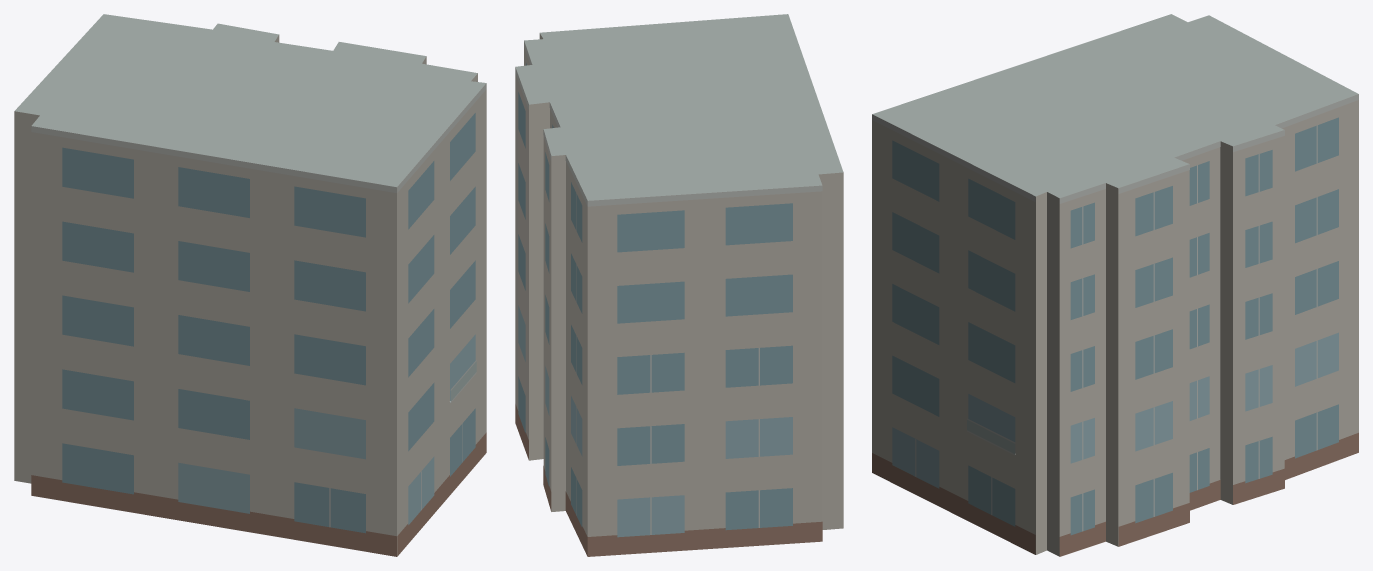
File: survey-upis-32681266.glb
The picture shows the model from 3 angles, left to right: view 1: azimuth 30°, elevation 25°; view 2: azimuth 150°, elevation 25°; view 3: azimuth 270°, elevation 25°; orthographic projection. The views are drawn at different scales.
Visible parts, largest first — view 1: survey-upis-32681266.tmp; view 2: survey-upis-32681266.tmp; view 3: survey-upis-32681266.tmp.
Boxes of the visible parts, bbox=[...] form: survey-upis-32681266.tmp: bbox=[14, 14, 486, 556]; survey-upis-32681266.tmp: bbox=[515, 14, 843, 556]; survey-upis-32681266.tmp: bbox=[872, 14, 1358, 556].
Bounding box in the file's own units: 16.48 × 14.95 × 18.4.
